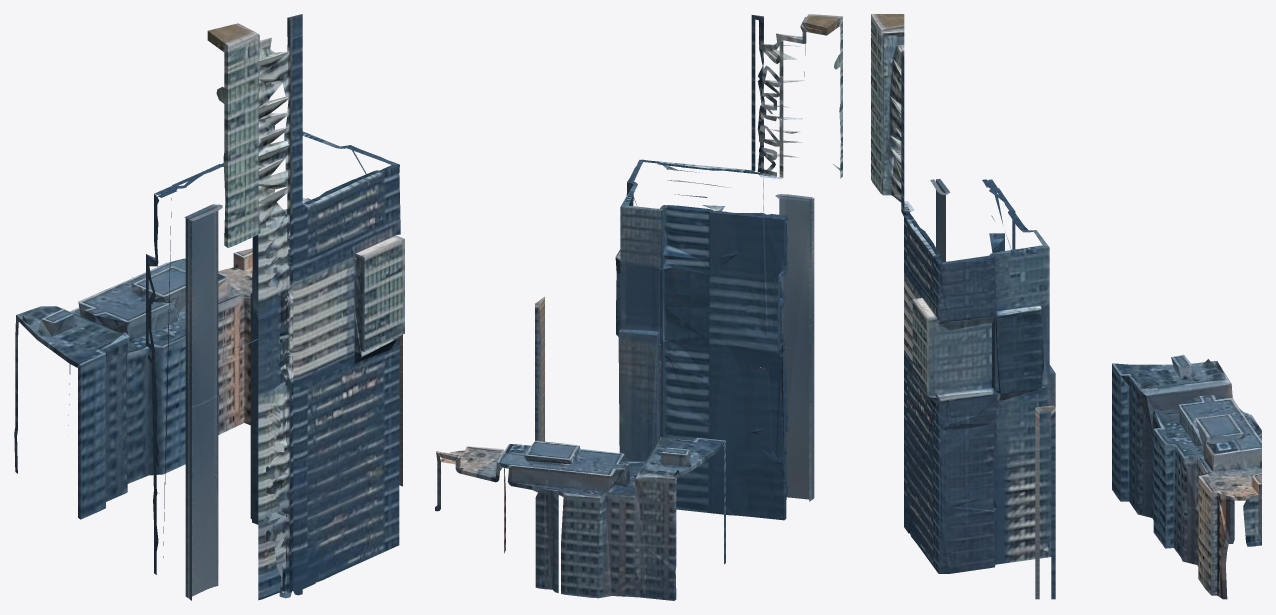
The model's file is chunk_-8_-6.glb.
3 views of the same model, side by side, from view 1: azimuth 30°, elevation 25°; view 2: azimuth 150°, elevation 25°; view 3: azimuth 270°, elevation 25° (orthographic). The views are drawn at different scales.
Parts seen in each view (by area): view 1: hero-chunk; view 2: hero-chunk; view 3: hero-chunk.
Boxes of the visible parts, box(x1,y1,x2,y2) form: hero-chunk: box(14, 14, 404, 600); hero-chunk: box(435, 14, 842, 600); hero-chunk: box(871, 14, 1261, 599).
Bounding box in the file's own units: 56.66 × 113 × 83.37.
3 materials, 3 textured.
